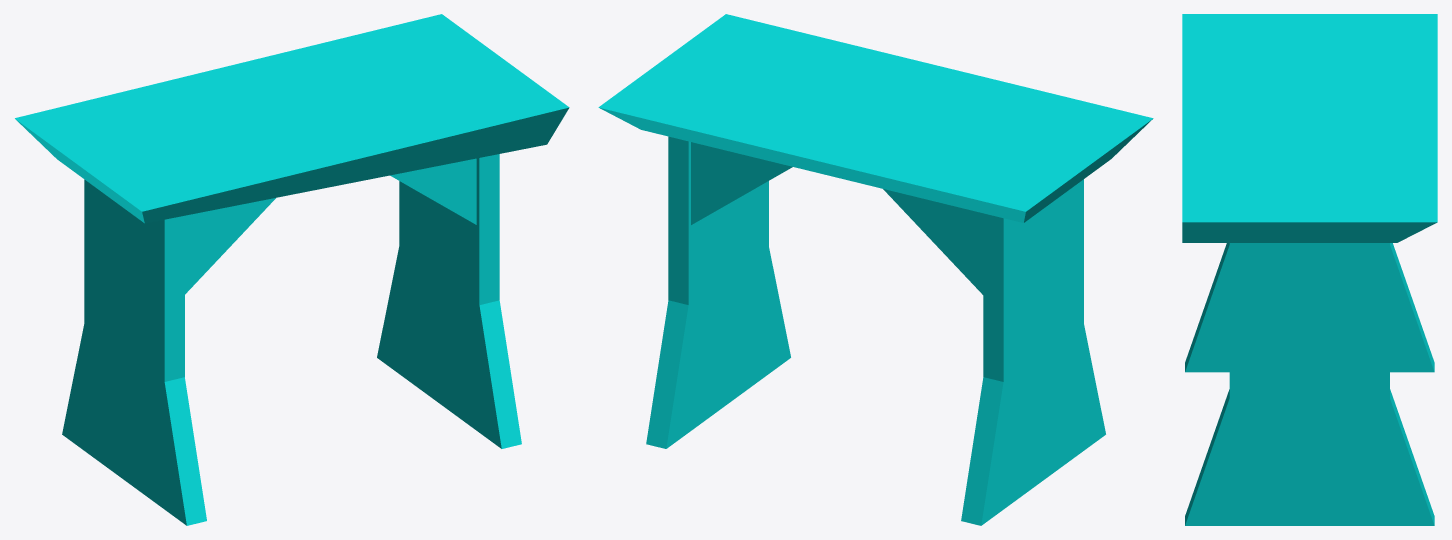
Rendered from SM_Prop_Trellis_01_Collision.fbx.
The picture shows the model from 3 angles, left to right: view 1: azimuth 30°, elevation 25°; view 2: azimuth 150°, elevation 25°; view 3: azimuth 270°, elevation 25°; orthographic projection.
Visible parts, largest first — view 1: SM_Prop_Trellis_01_Collision; view 2: SM_Prop_Trellis_01_Collision; view 3: SM_Prop_Trellis_01_Collision.
Part boxes in pixels (x1,y1,x2,y2): SM_Prop_Trellis_01_Collision: (15,14,569,525); SM_Prop_Trellis_01_Collision: (598,14,1153,525); SM_Prop_Trellis_01_Collision: (1182,14,1437,525).
Bounding box in the file's own units: 384 × 280 × 198.
